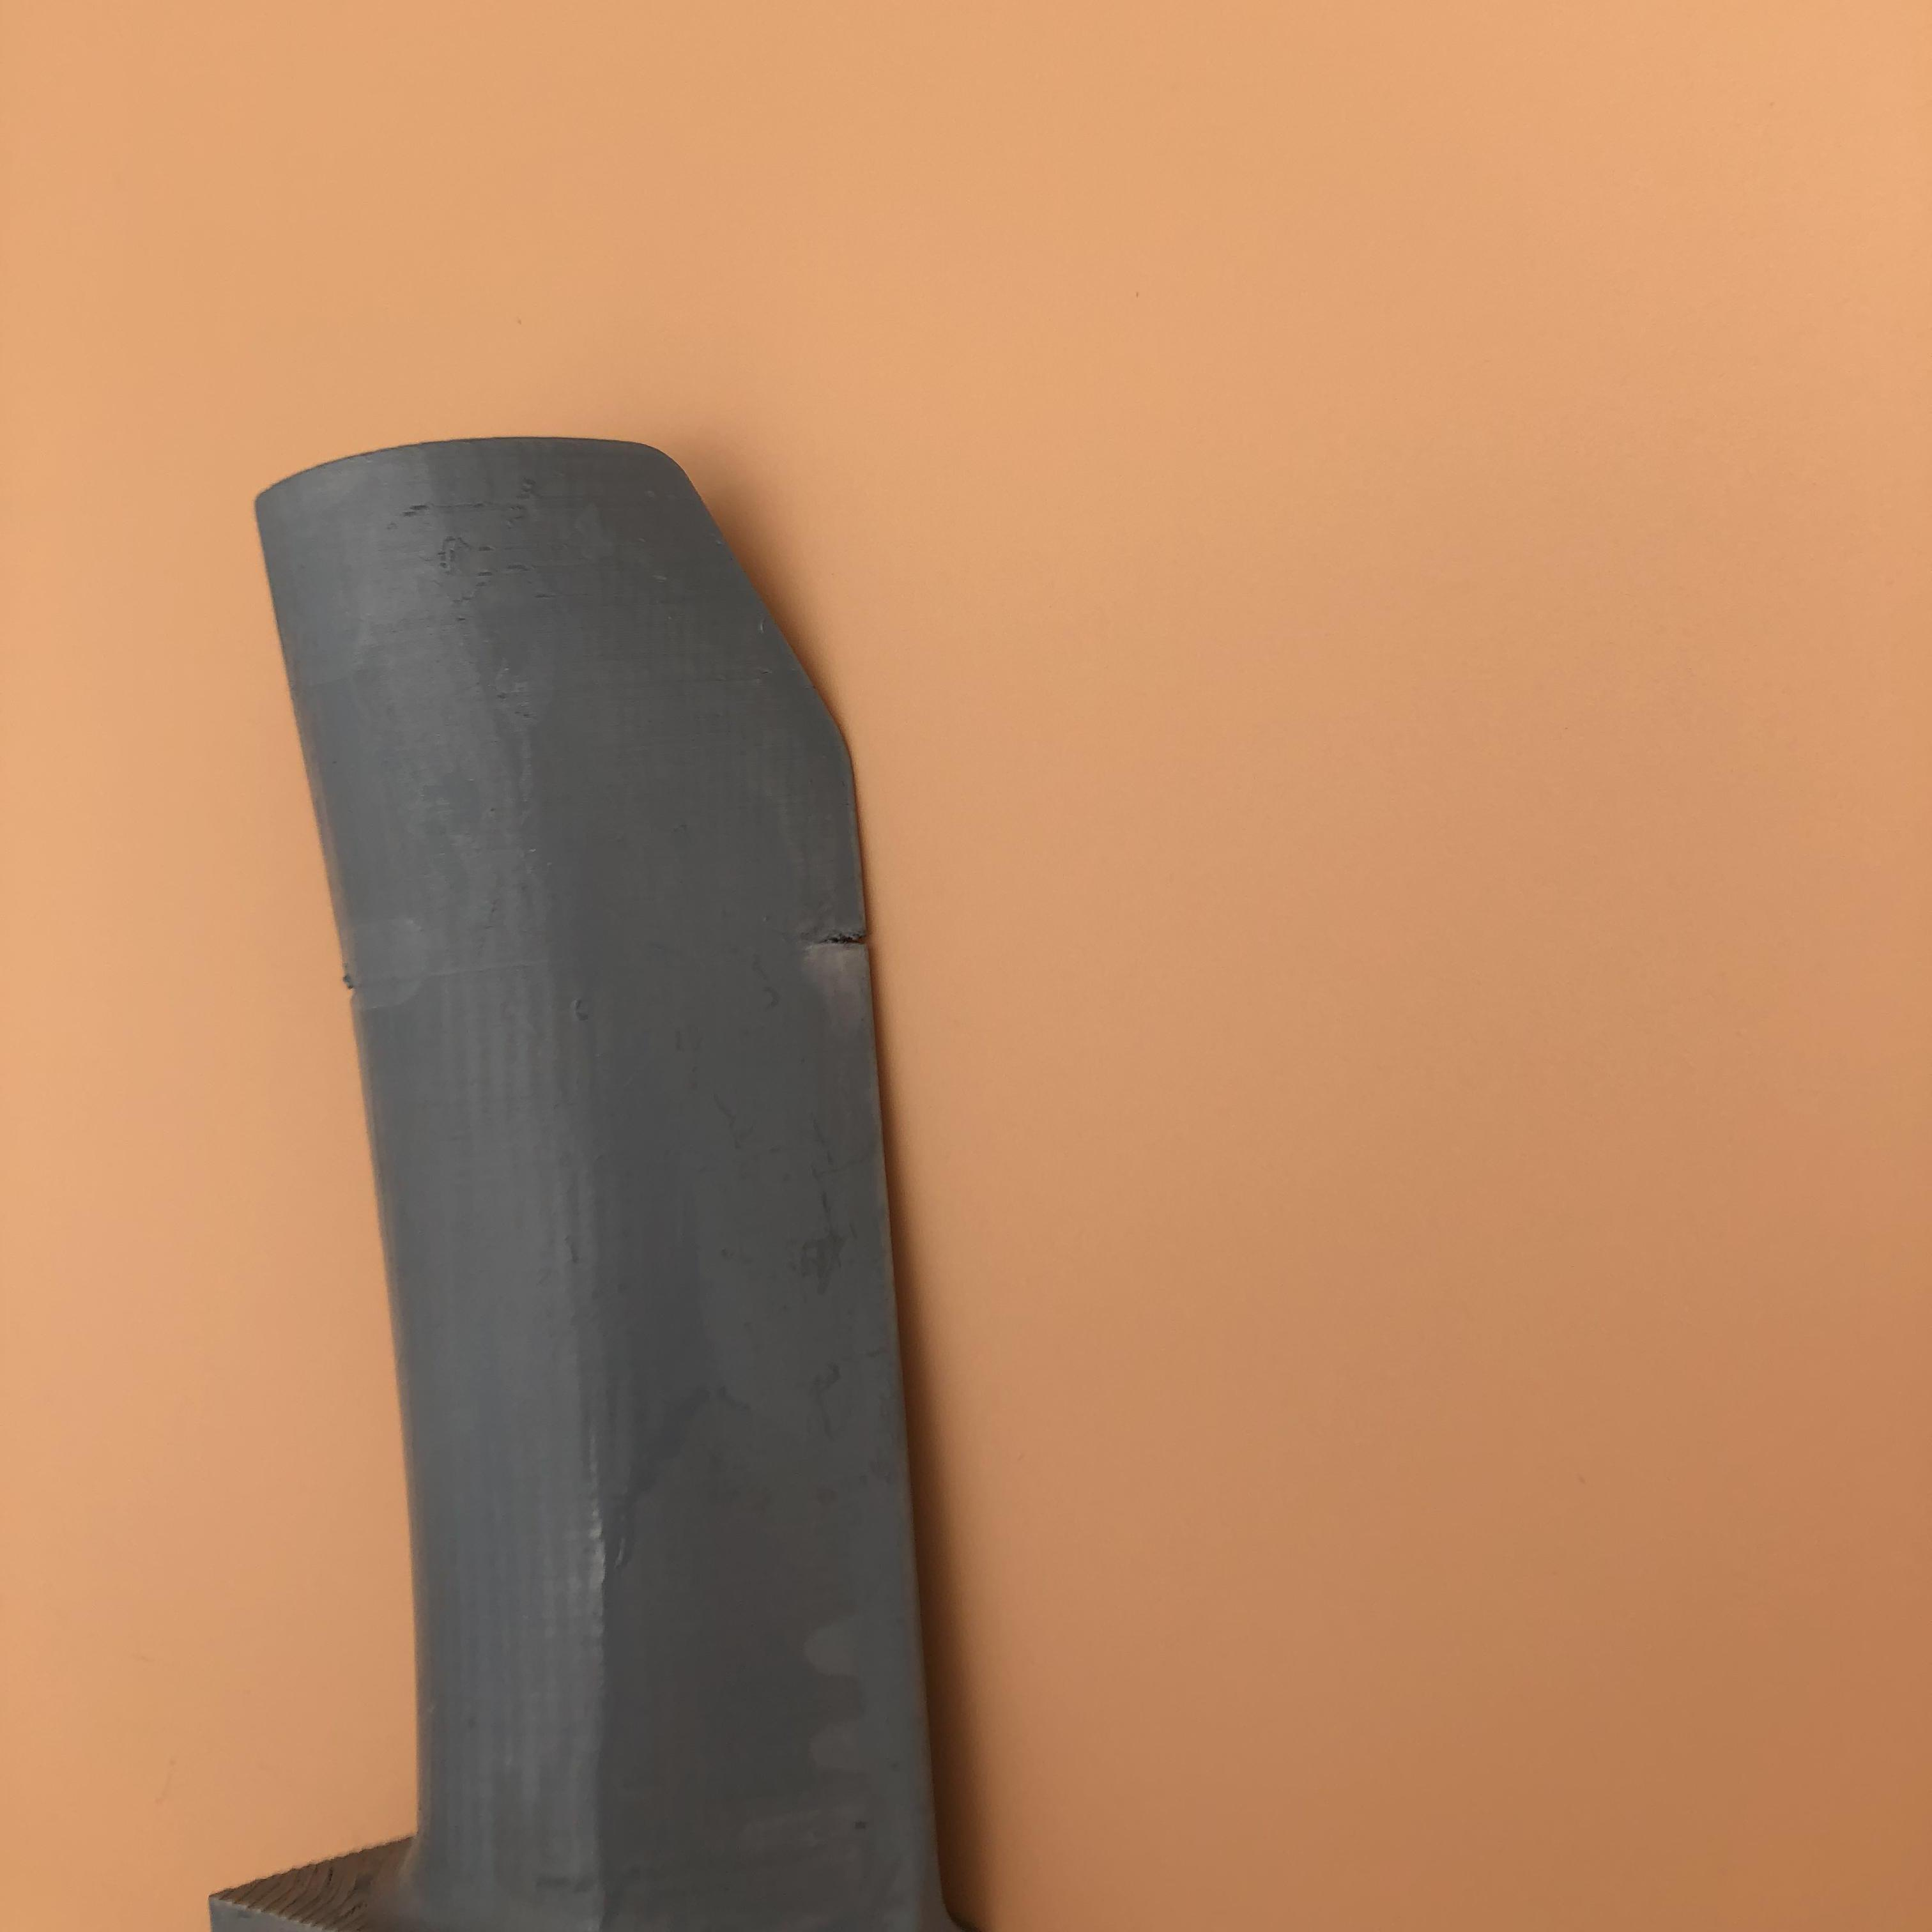groove: (809, 924, 878, 968)
